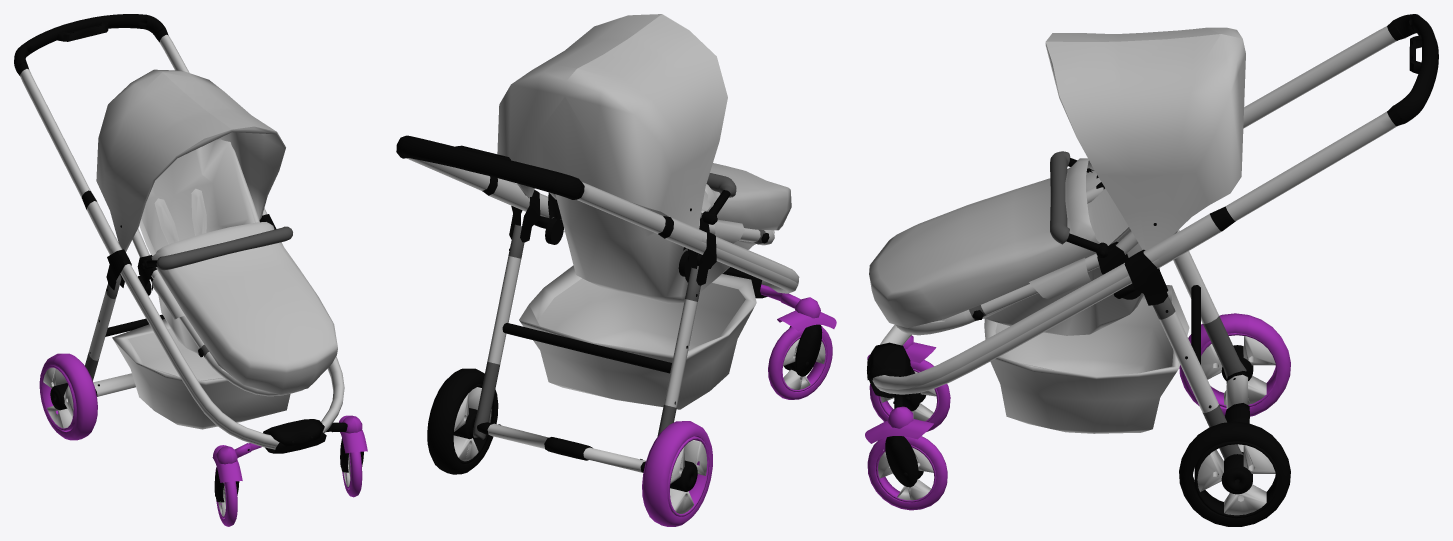
The model's file is stoller.fbx.
3 renders of one model, left to right at view 1: azimuth 30°, elevation 25°; view 2: azimuth 150°, elevation 25°; view 3: azimuth 270°, elevation 25°, orthographic. The views are drawn at different scales.
Visible parts, largest first — view 1: Object04, Object01; view 2: Object04, Object01; view 3: Object04, Object01.
Boxes of the visible parts, x1,y1,x2,y2 form: Object04: [96, 69, 337, 429]; Object01: [14, 14, 367, 526]; Object04: [497, 14, 791, 409]; Object01: [396, 135, 836, 526]; Object04: [869, 27, 1245, 433]; Object01: [865, 14, 1438, 526].
Size of the model in its own units: 835 by 1372 by 1634.
